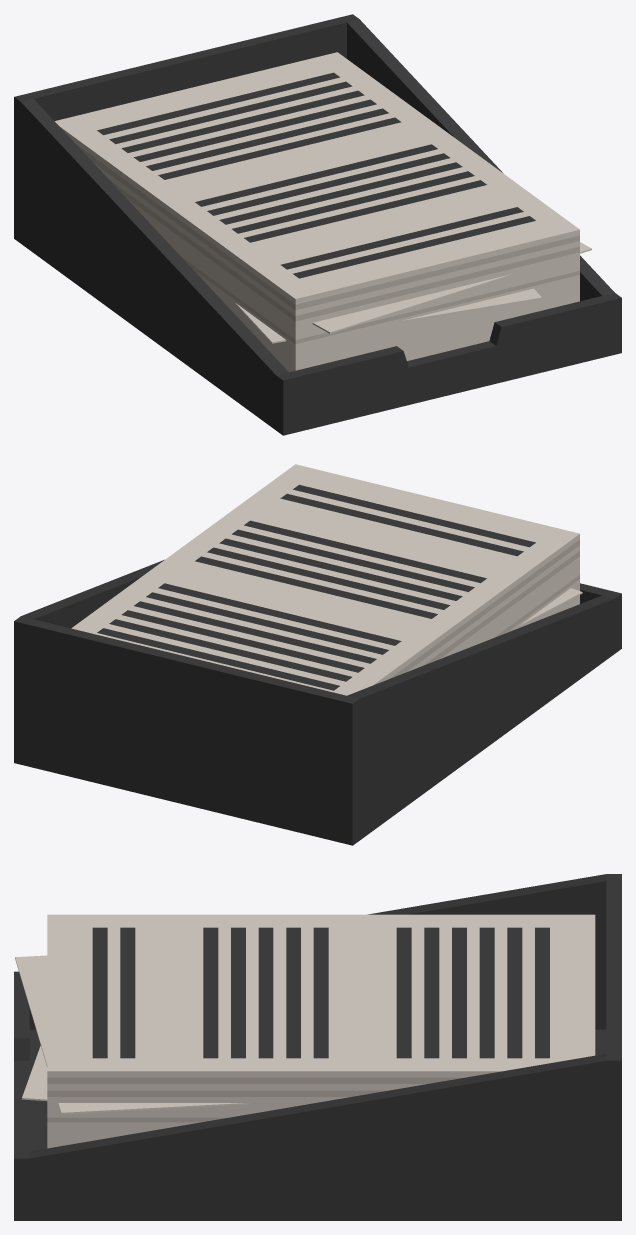
File: Docs.fbx
3 renders of one model, top to bottom at view 1: azimuth 30°, elevation 25°; view 2: azimuth 150°, elevation 25°; view 3: azimuth 270°, elevation 25°, orthographic. The views are drawn at different scales.
Parts seen in each view (by area): view 1: Doc_09; view 2: Doc_09; view 3: Doc_09.
Part boxes in pixels (x1,y1,x2,y2): Doc_09: [14, 14, 621, 435]; Doc_09: [14, 464, 621, 845]; Doc_09: [14, 874, 621, 1220].
Size of the model in its own units: 25 by 10 by 34.4.
